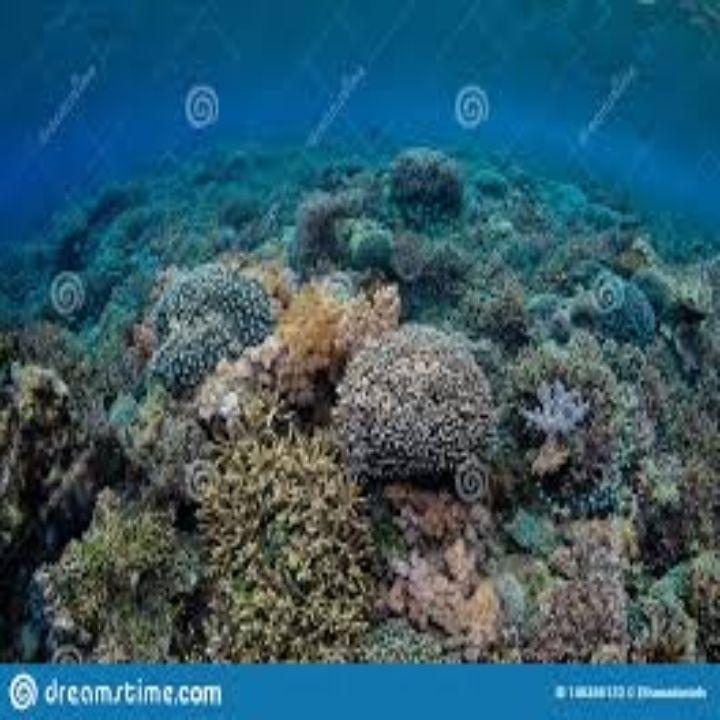Healthy Coral: (55, 171, 661, 645)
